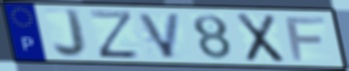8: (191, 12, 235, 62)
F: (283, 16, 328, 62)
J: (51, 7, 90, 60)
V: (135, 11, 184, 60)
X: (234, 12, 286, 64)
Z: (87, 9, 143, 60)
